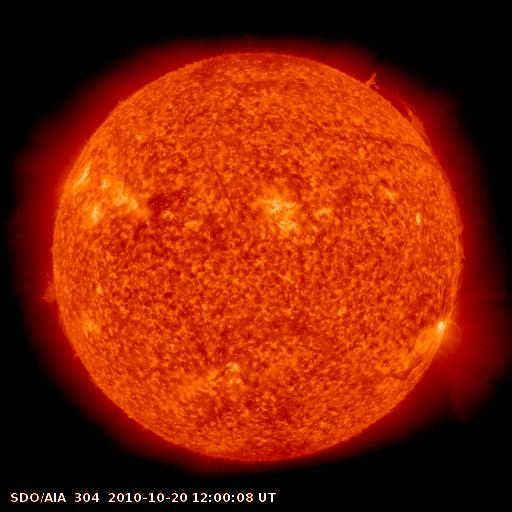prominence: (362, 63, 439, 151), (20, 263, 81, 316), (451, 186, 470, 304)
